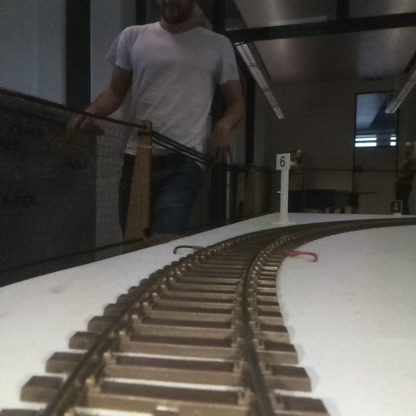white-info-6: (276, 153, 289, 223)
